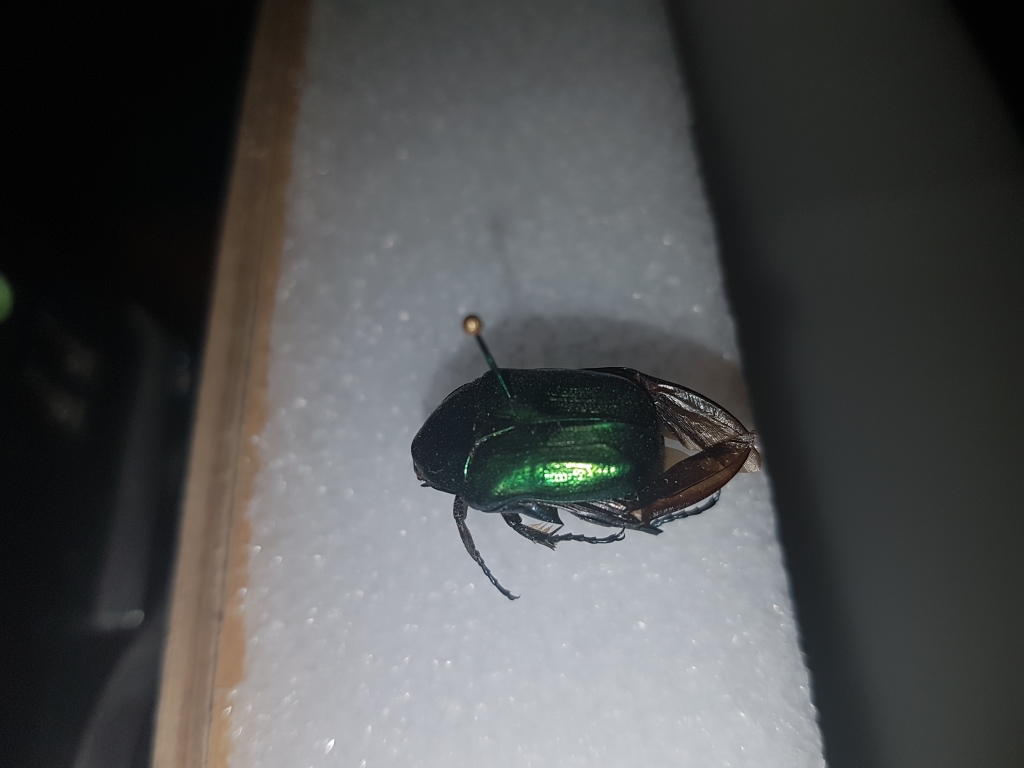Protaetia_angustata_angustata: (399, 354, 774, 605)
